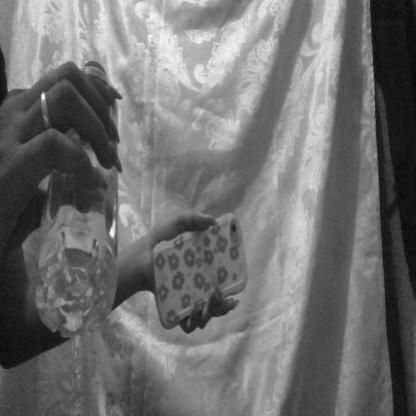Plastic Bottle: (39, 22, 129, 393)
